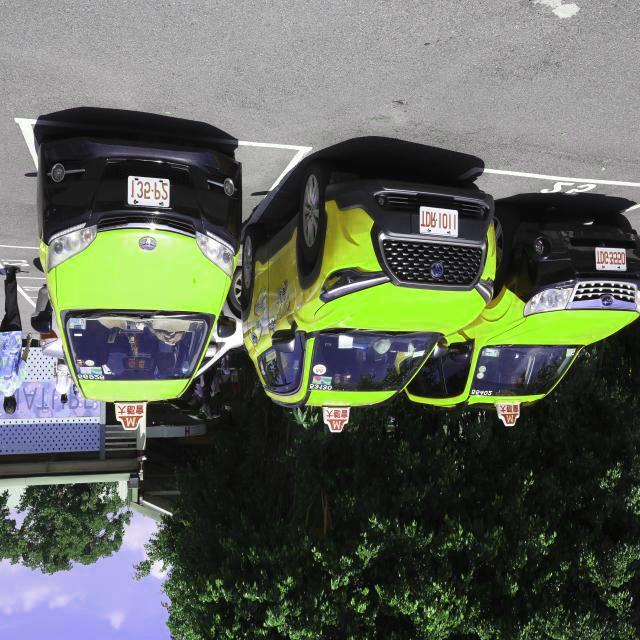taxi: (243, 124, 500, 452), (33, 102, 245, 453), (415, 176, 640, 458)
